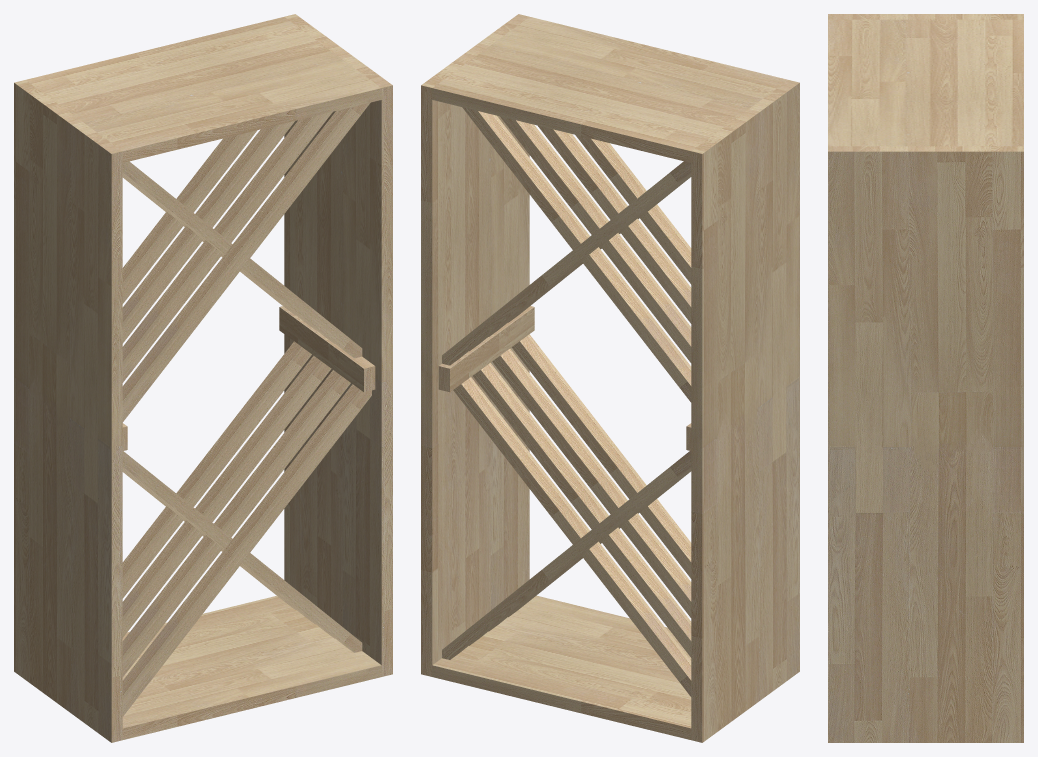
The picture shows the model from 3 angles, left to right: view 1: azimuth 30°, elevation 25°; view 2: azimuth 150°, elevation 25°; view 3: azimuth 270°, elevation 25°; orthographic projection.
Parts seen in each view (by area): view 1: wood.001; view 2: wood.001; view 3: wood.001.
Part boxes in pixels (x1=…): wood.001: x1=14, y1=14, x2=392, y2=742; wood.001: x1=421, y1=14, x2=799, y2=742; wood.001: x1=828, y1=14, x2=1023, y2=742.
Size of the model in its own units: 0.5 by 1 by 0.3.
Materials: 1 (1 with a texture image).
